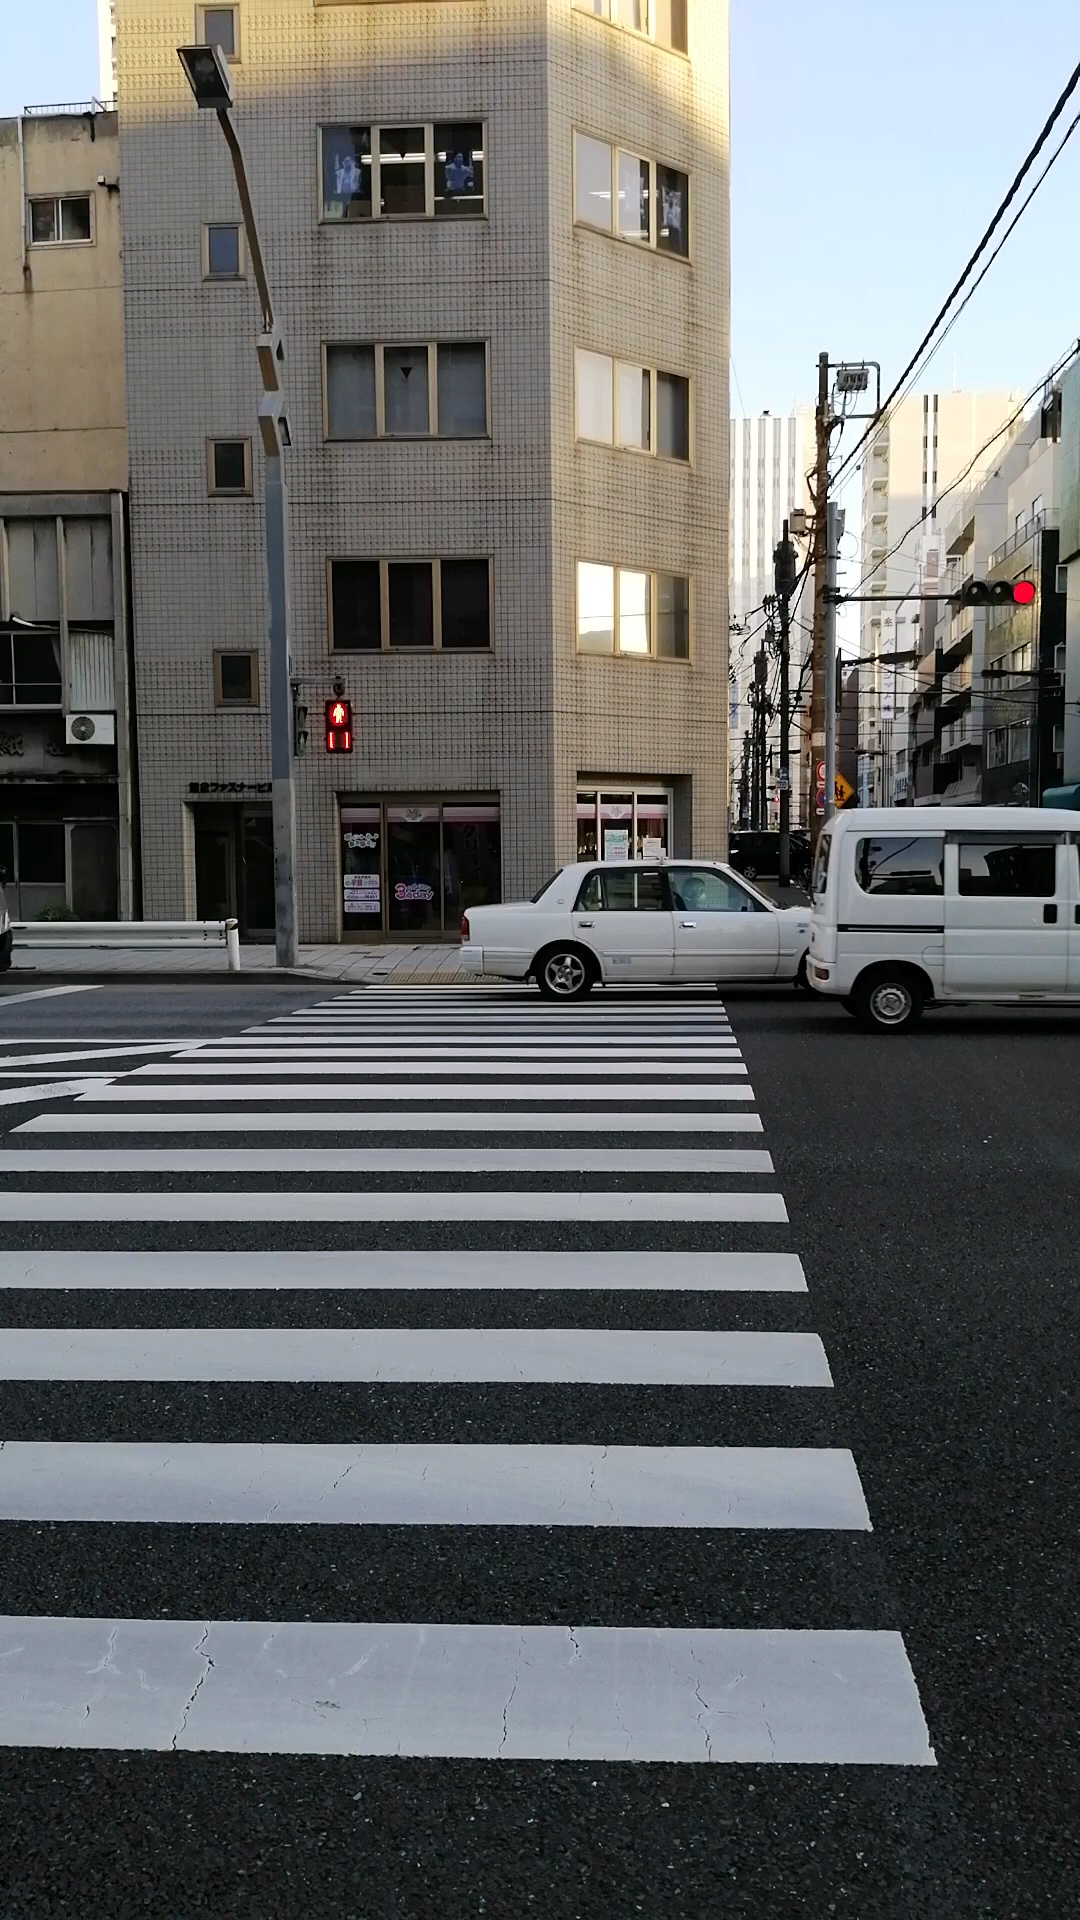red: (320, 698, 353, 756)
